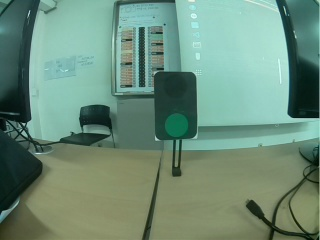green_light: (152, 72, 195, 140)
